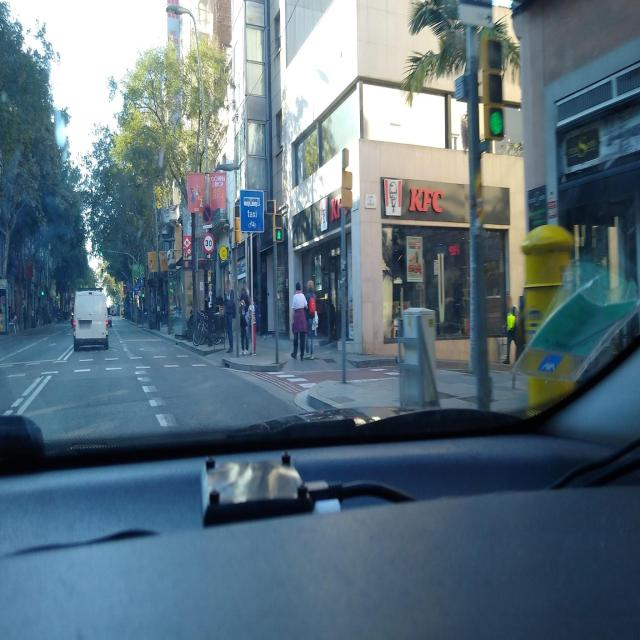forb_stopping: (202, 205, 212, 225)
